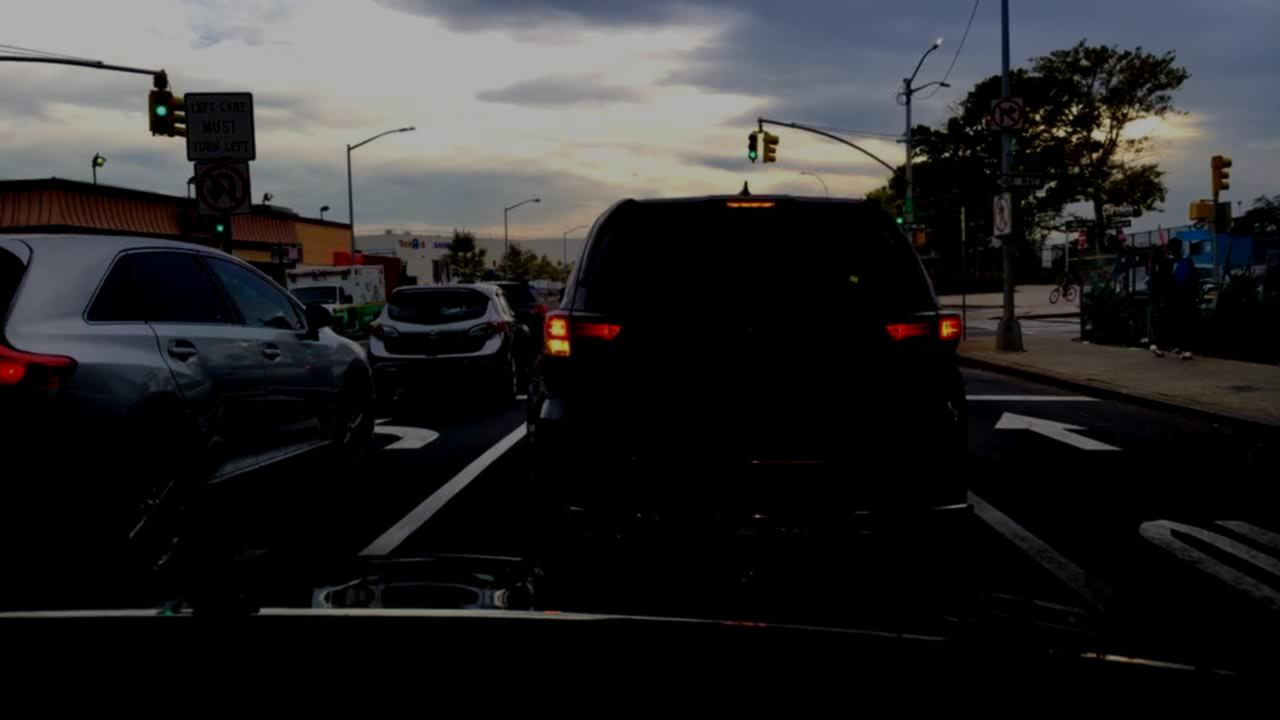Mazda: (424, 324, 444, 345)
